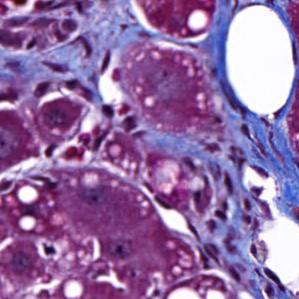inflammation: (207, 192, 242, 226), (60, 75, 97, 104)
